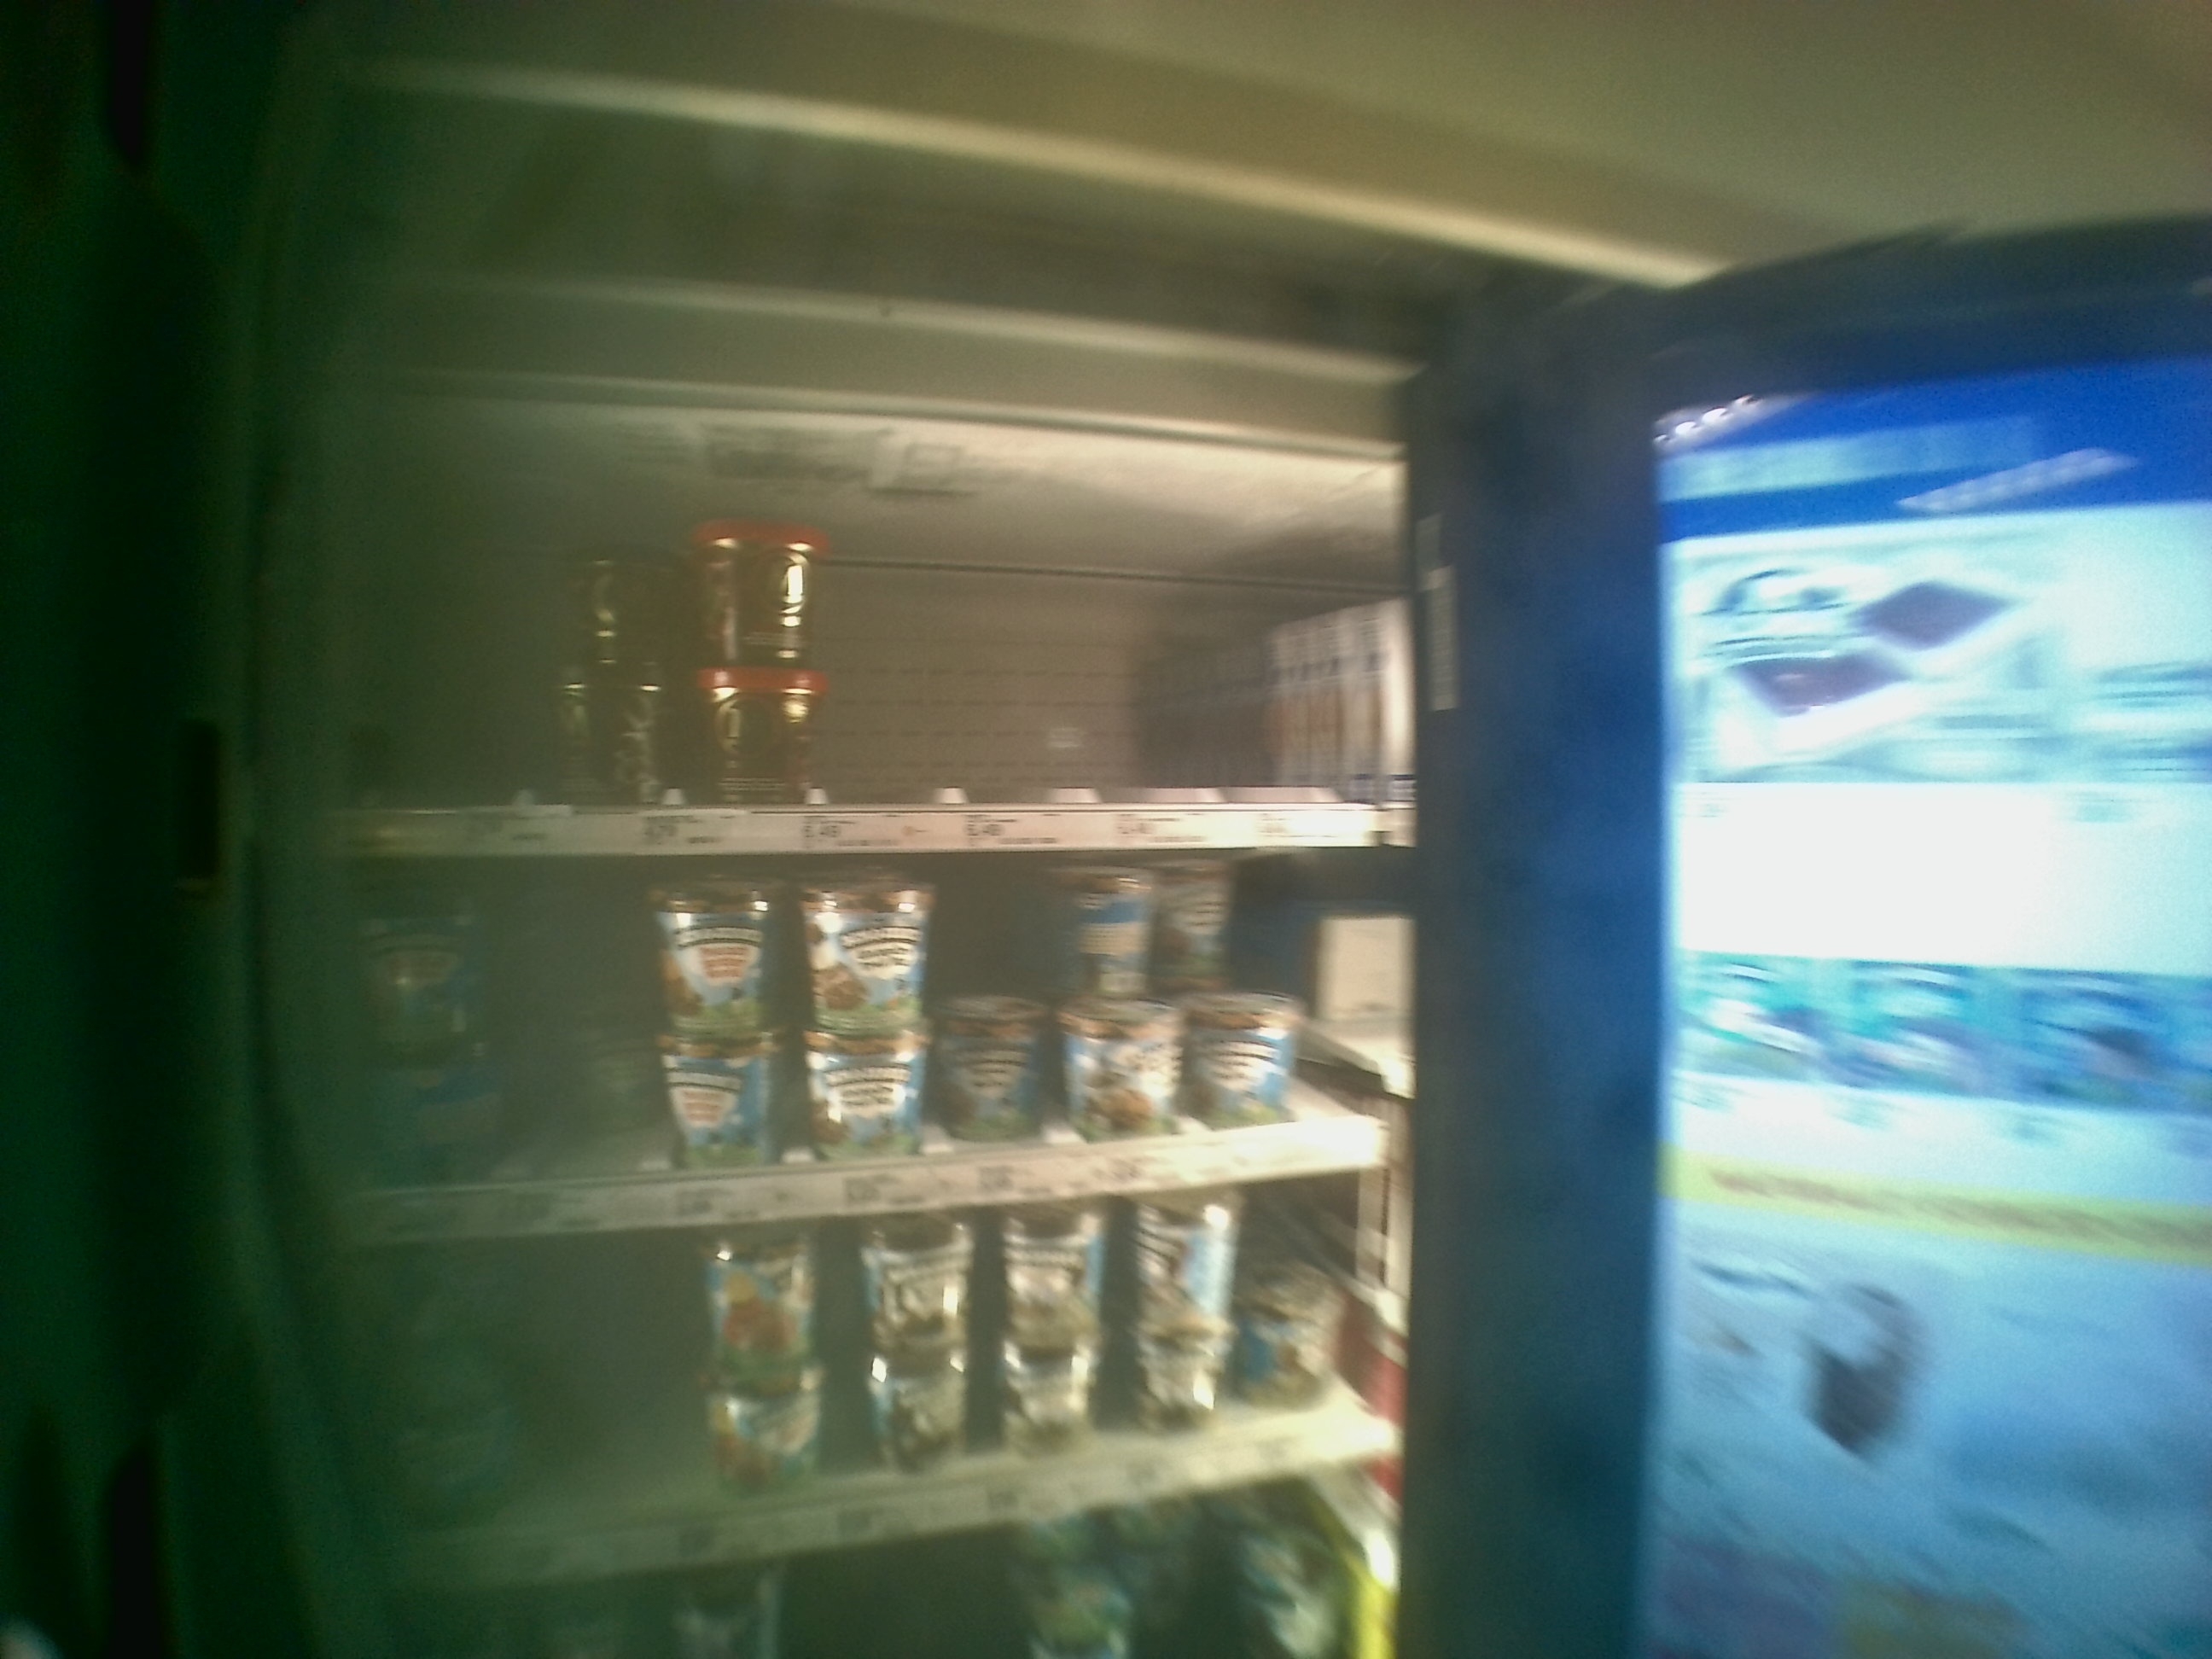shelf: (296, 390, 1460, 852), (289, 859, 1433, 1263)
